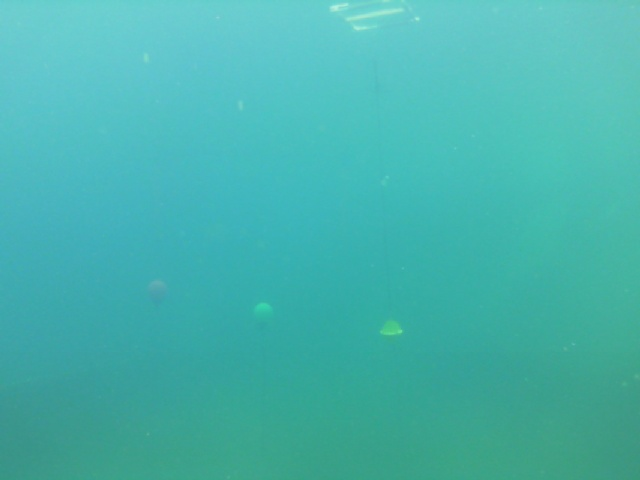buoy_green: (253, 301, 273, 329)
buoy_red: (147, 279, 171, 312)
buoy_yellow: (379, 318, 404, 345)
